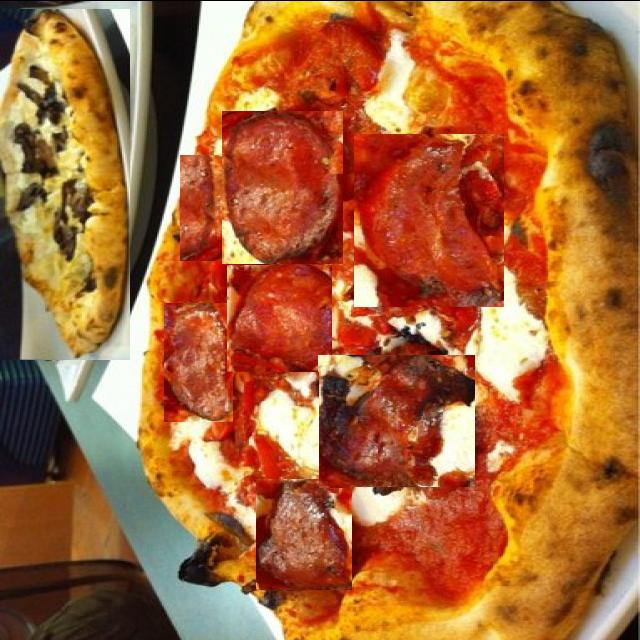pepperoni: (354, 133, 504, 306), (319, 354, 475, 486), (222, 110, 343, 263), (228, 264, 334, 371), (256, 476, 352, 588), (180, 154, 259, 260), (164, 302, 233, 421)
pizza: (138, 0, 640, 640), (0, 8, 130, 359)
